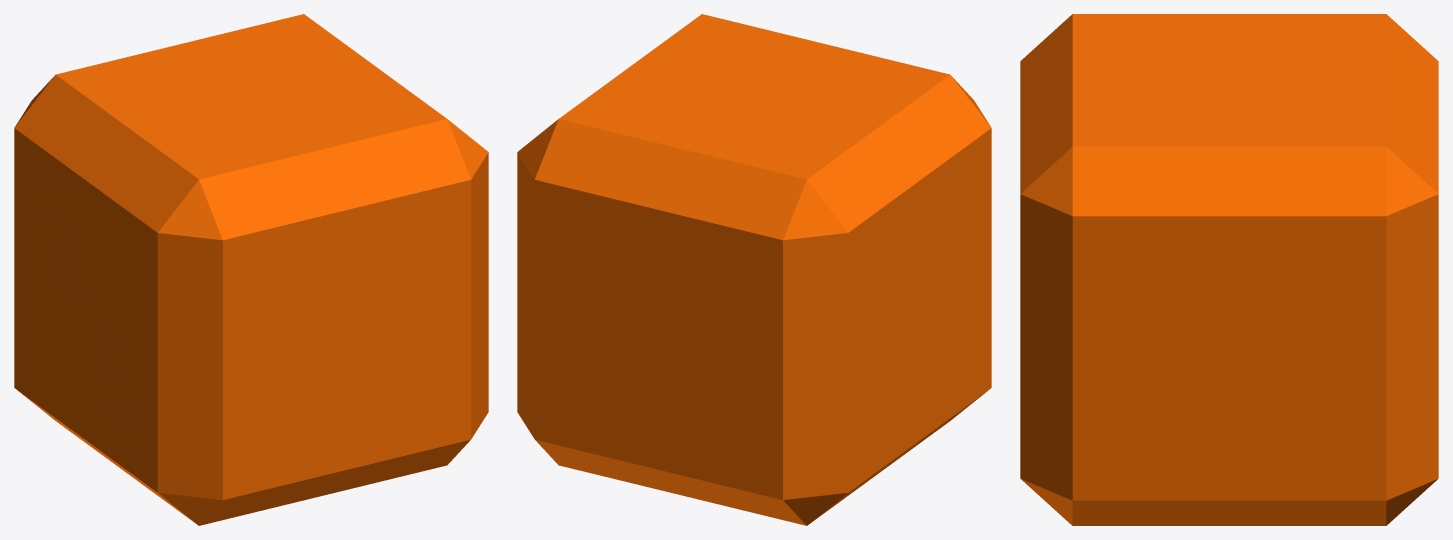
3 renders of one model, left to right at view 1: azimuth 30°, elevation 25°; view 2: azimuth 150°, elevation 25°; view 3: azimuth 270°, elevation 25°, orthographic. The views are drawn at different scales.
Visible parts, largest first — view 1: block_rounded_0; view 2: block_rounded_0; view 3: block_rounded_0.
Part boxes in pixels (x1,y1,x2,y2): block_rounded_0: (14, 14, 488, 525); block_rounded_0: (517, 14, 991, 525); block_rounded_0: (1020, 14, 1438, 525).
Bounding box in the file's own units: 0.5 × 0.5 × 0.5.
